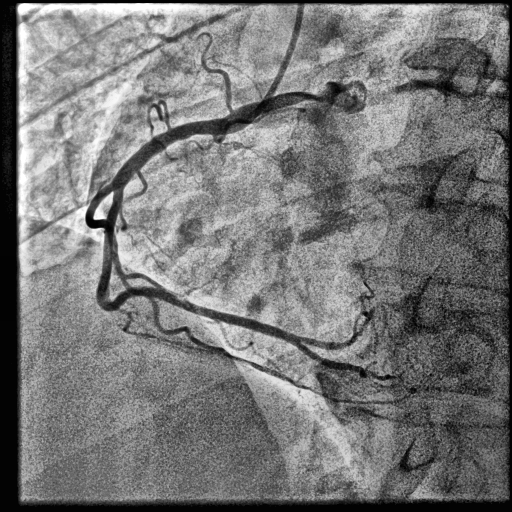pborca: (297, 335, 357, 350)
pda: (294, 342, 404, 384)
rca: (96, 118, 299, 345)
